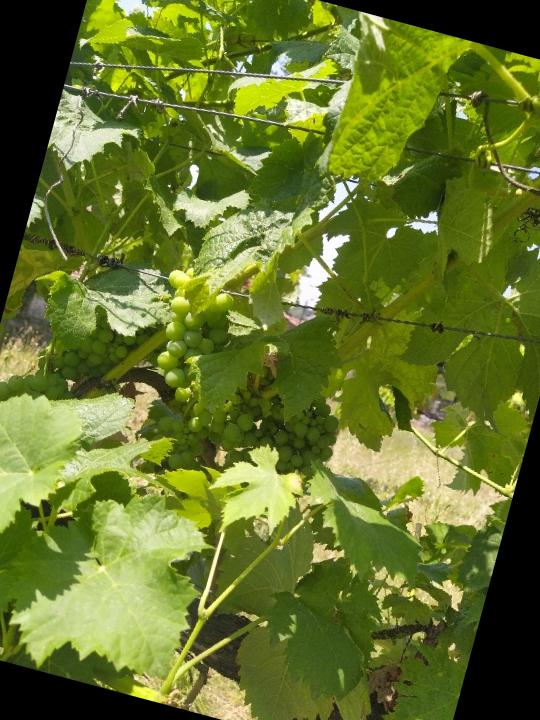grape: (134, 257, 247, 412), (244, 377, 349, 488)
